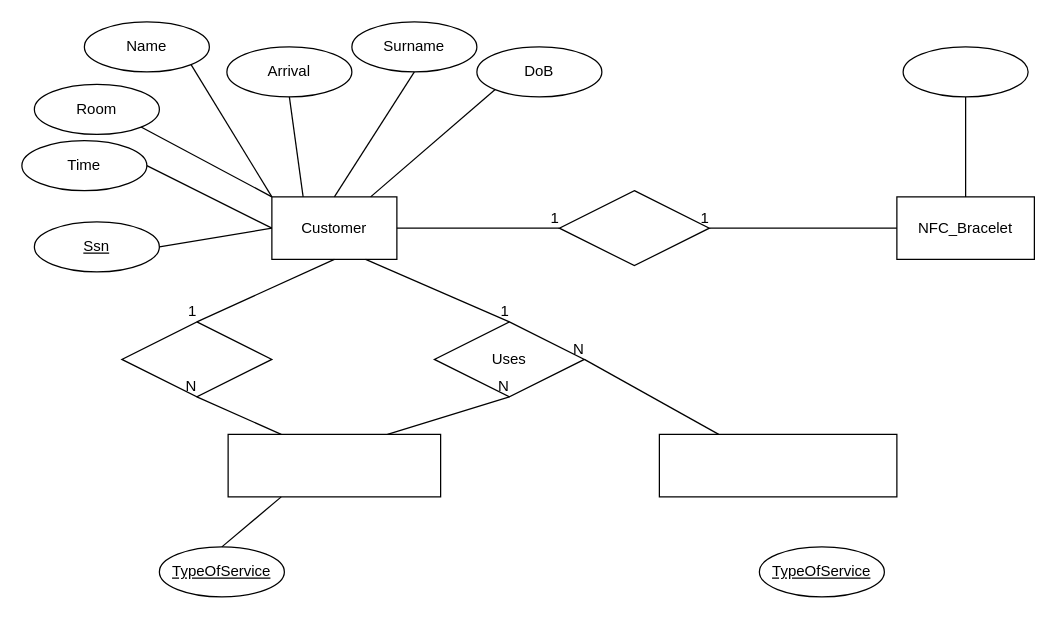
Image size: 1056x619. Some labels were removed from this diagram. Each missing label, with the box of its shape:
Enrolls: (121, 321, 272, 397)
Has: (558, 189, 709, 266)
ID: (902, 46, 1028, 97)
Services_With_Enrollment: (227, 433, 441, 497)
Services_Without_Enrollment: (658, 433, 897, 497)
